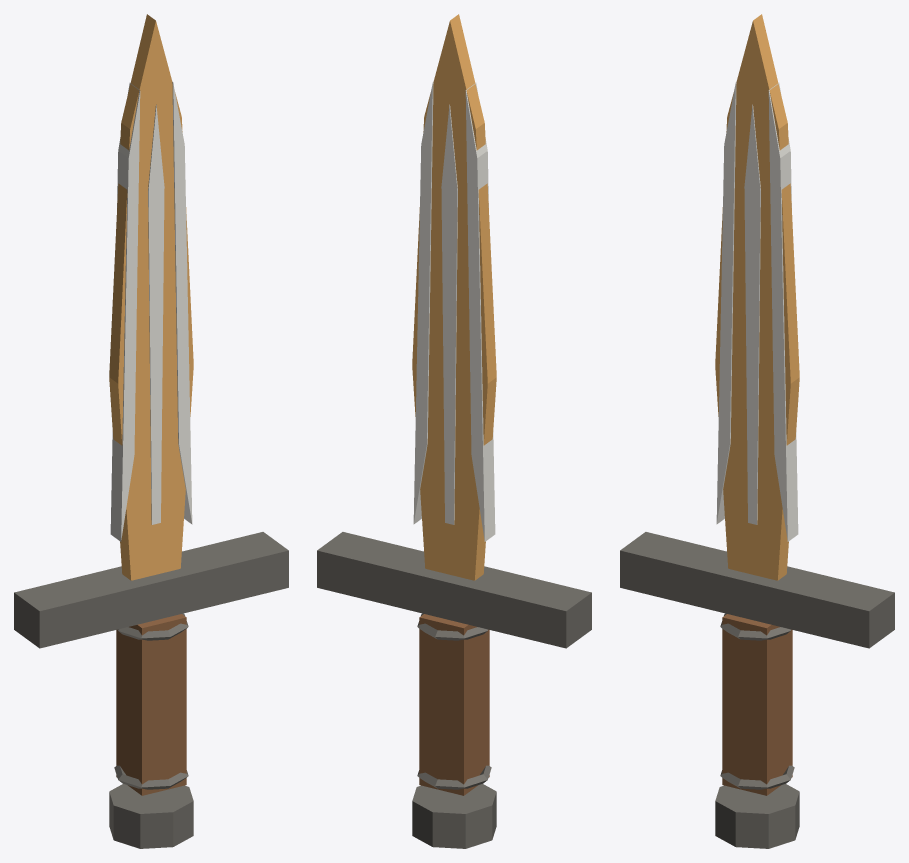
The model's file is t6_one_handed_sword.glb.
The picture shows the model from 3 angles, left to right: view 1: azimuth 30°, elevation 25°; view 2: azimuth 150°, elevation 25°; view 3: azimuth 330°, elevation 25°; orthographic projection.
Visible parts, largest first — view 1: Blade, Guard, Grip, LeftBladeEdge, Fuller, RightBladeEdge, Pommel, BottomGripRing, TopGripRing; view 2: Blade, Guard, Grip, LeftBladeEdge, Fuller, RightBladeEdge, Pommel, BottomGripRing, TopGripRing; view 3: Blade, Guard, Grip, RightBladeEdge, Fuller, LeftBladeEdge, Pommel, BottomGripRing, TopGripRing.
Boxes of the visible parts, x1,y1,x2,y2 form: Blade: [109, 14, 193, 580]; Guard: [14, 532, 288, 648]; Grip: [116, 614, 186, 795]; LeftBladeEdge: [110, 83, 140, 541]; Fuller: [148, 104, 164, 524]; RightBladeEdge: [172, 82, 192, 524]; Pommel: [109, 783, 193, 848]; BottomGripRing: [114, 765, 188, 789]; TopGripRing: [118, 613, 188, 640]; Blade: [412, 14, 496, 580]; Guard: [317, 532, 591, 648]; Grip: [419, 614, 489, 795]; LeftBladeEdge: [465, 83, 495, 541]; Fuller: [441, 104, 457, 524]; RightBladeEdge: [413, 82, 433, 524]; Pommel: [412, 783, 496, 848]; BottomGripRing: [417, 765, 491, 789]; TopGripRing: [417, 613, 487, 640]; Blade: [715, 14, 799, 580]; Guard: [620, 532, 894, 648]; Grip: [722, 614, 792, 795]; RightBladeEdge: [768, 83, 798, 541]; Fuller: [744, 104, 760, 524]; LeftBladeEdge: [716, 82, 736, 524]; Pommel: [715, 783, 799, 848]; BottomGripRing: [720, 765, 794, 789]; TopGripRing: [720, 613, 790, 640].
Bounding box in the file's own units: 0.56 × 1.75 × 0.17.
